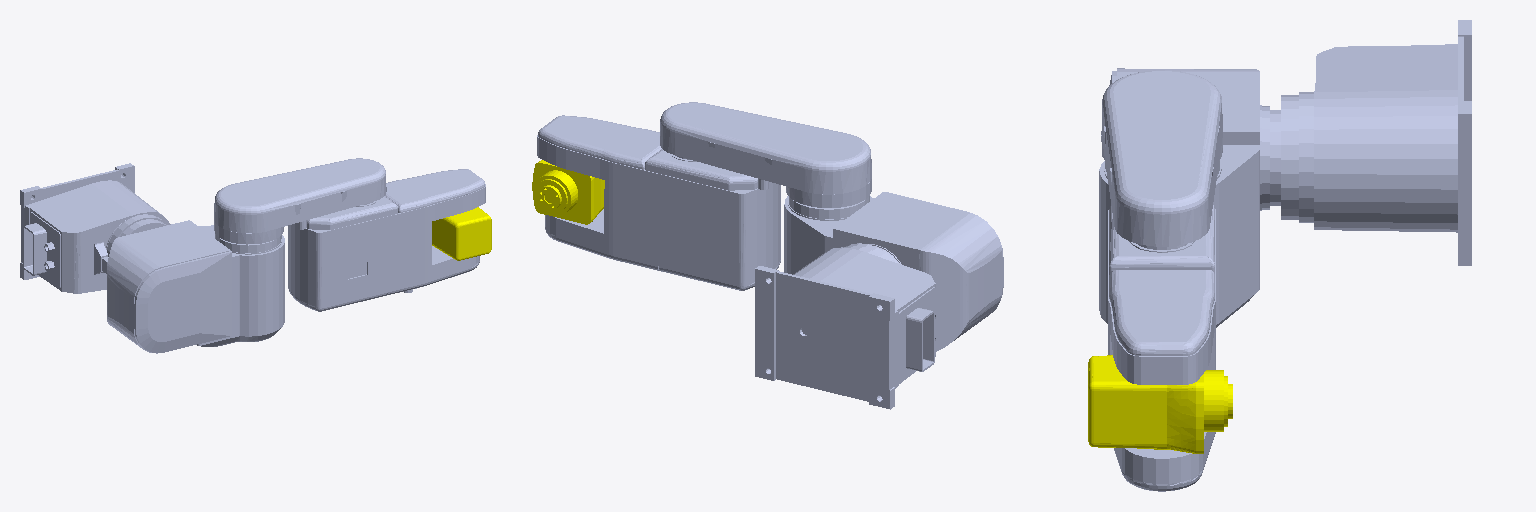
The robot description file, URDF, robot "Robot":
<?xml version="1.0" encoding="utf-8"?>
<!-- This URDF was automatically created by SolidWorks to URDF Exporter! Originally created by [author] ([email redacted]) 
     Commit Version: 1.5.1-0-g916b5db  Build Version: 1.5.7152.31018
     For more information, please see http://wiki.ros.org/sw_urdf_exporter -->
<robot
  name="Robot">
  <link
    name="base_link">
    <inertial>
      <origin
        xyz="-0.03833929027448 -3.59958205703425E-05 0.0994275237600867"
        rpy="0 0 0" />
      <mass
        value="6.61349938792739" />
      <inertia
        ixx="0.0334211501333898"
        ixy="1.81619664576464E-07"
        ixz="-0.00282491860182571"
        iyy="0.0514438808451977"
        iyz="-2.07335191994888E-05"
        izz="0.0411049283794167" />
    </inertial>
    <visual>
      <origin
        xyz="0 0 0"
        rpy="0 0 0" />
      <geometry>
        <mesh
          filename="package://Robot/meshes/base_link.STL" />
      </geometry>
      <material
        name="">
        <color
          rgba="0.792156862745098 0.819607843137255 0.933333333333333 1" />
      </material>
    </visual>
    <collision>
      <origin
        xyz="0 0 0"
        rpy="0 0 0" />
      <geometry>
        <mesh
          filename="package://Robot/meshes/base_link.STL" />
      </geometry>
    </collision>
  </link>
  <link
    name="Link_1">
    <inertial>
      <origin
        xyz="0.0443968711827815 0.114215613209391 0.0246606203922222"
        rpy="0 0 0" />
      <mass
        value="11.480826102636" />
      <inertia
        ixx="0.0698498374042655"
        ixy="-0.00747408433668599"
        ixz="0.00038316797046875"
        iyy="0.147470785850276"
        iyz="0.000529201969864123"
        izz="0.130855843893839" />
    </inertial>
    <visual>
      <origin
        xyz="0 0 0"
        rpy="0 0 0" />
      <geometry>
        <mesh
          filename="package://Robot/meshes/Link_1.STL" />
      </geometry>
      <material
        name="">
        <color
          rgba="0.792156862745098 0.819607843137255 0.933333333333333 1" />
      </material>
    </visual>
    <collision>
      <origin
        xyz="0 0 0"
        rpy="0 0 0" />
      <geometry>
        <mesh
          filename="package://Robot/meshes/Link_1.STL" />
      </geometry>
    </collision>
  </link>
  <joint
    name="joint_1"
    type="continuous">
    <origin
      xyz="0 -0.21599398 0"
      rpy="3.14159265358979 0 0" />
    <parent
      link="base_link" />
    <child
      link="Link_1" />
    <axis
      xyz="0 1 0" />
  </joint>
  <link
    name="Link_2">
    <inertial>
      <origin
        xyz="-0.000424905149729982 0.122238930468024 -0.0545876838239367"
        rpy="0 0 0" />
      <mass
        value="1.59614240021541" />
      <inertia
        ixx="0.0191906908591395"
        ixy="-4.07549329449473E-05"
        ixz="6.03114729725788E-06"
        iyy="0.00247948219624241"
        iyz="-0.000358450957221003"
        izz="0.0206716445774797" />
    </inertial>
    <visual>
      <origin
        xyz="0 0 0"
        rpy="0 0 0" />
      <geometry>
        <mesh
          filename="package://Robot/meshes/Link_2.STL" />
      </geometry>
      <material
        name="">
        <color
          rgba="0.792156862745098 0.819607843137255 0.933333333333333 1" />
      </material>
    </visual>
    <collision>
      <origin
        xyz="0 0 0"
        rpy="0 0 0" />
      <geometry>
        <mesh
          filename="package://Robot/meshes/Link_2.STL" />
      </geometry>
    </collision>
  </link>
  <joint
    name="joint_2"
    type="continuous">
    <origin
      xyz="0.15113 0.134620000000033 -0.0739774999997785"
      rpy="0 0 -1.5707963267949" />
    <parent
      link="Link_1" />
    <child
      link="Link_2" />
    <axis
      xyz="0 0 1" />
  </joint>
  <link
    name="Link_3">
    <inertial>
      <origin
        xyz="0.0306015611393443 -1.38986990833034E-05 0.0869620810233305"
        rpy="0 0 0" />
      <mass
        value="7.57314920700952" />
      <inertia
        ixx="0.0345355100189945"
        ixy="-2.13368907186288E-05"
        ixz="0.000295327132632406"
        iyy="0.106628525631527"
        iyz="-7.71589561195419E-06"
        izz="0.0896284271785831" />
    </inertial>
    <visual>
      <origin
        xyz="0 0 0"
        rpy="0 0 0" />
      <geometry>
        <mesh
          filename="package://Robot/meshes/Link_3.STL" />
      </geometry>
      <material
        name="">
        <color
          rgba="0.792156862745098 0.819607843137255 0.933333333333333 1" />
      </material>
    </visual>
    <collision>
      <origin
        xyz="0 0 0"
        rpy="0 0 0" />
      <geometry>
        <mesh
          filename="package://Robot/meshes/Link_3.STL" />
      </geometry>
    </collision>
  </link>
  <joint
    name="joint_3"
    type="continuous">
    <origin
      xyz="0 0.249999997700549 0"
      rpy="0 0 1.5707963267949" />
    <parent
      link="Link_2" />
    <child
      link="Link_3" />
    <axis
      xyz="0 0 1" />
  </joint>
  <link
    name="Link_4">
    <inertial>
      <origin
        xyz="-0.0161410509686082 -0.00728366402373137 0.0464257229030794"
        rpy="0 0 0" />
      <mass
        value="2.62434730485973" />
      <inertia
        ixx="0.00345648265125595"
        ixy="1.35082748314769E-05"
        ixz="-2.61615736224225E-05"
        iyy="0.00519174994334229"
        iyz="-4.97737960353961E-06"
        izz="0.00537240520771855" />
    </inertial>
    <visual>
      <origin
        xyz="0 0 0"
        rpy="0 0 0" />
      <geometry>
        <mesh
          filename="package://Robot/meshes/Link_4.STL" />
      </geometry>
      <material
        name="">
        <color
          rgba="1 1 0 1" />
      </material>
    </visual>
    <collision>
      <origin
        xyz="0 0 0"
        rpy="0 0 0" />
      <geometry>
        <mesh
          filename="package://Robot/meshes/Link_4.STL" />
      </geometry>
    </collision>
  </link>
  <joint
    name="joint_4"
    type="continuous">
    <origin
      xyz="0.22 0 0.0461024999998818"
      rpy="0 0 -1.5707963267949" />
    <parent
      link="Link_3" />
    <child
      link="Link_4" />
    <axis
      xyz="0 0 1" />
  </joint>
  <link
    name="Link_5">
    <inertial>
      <origin
        xyz="0.0188069343223941 -1.61969243647198E-05 2.29020941100444E-10"
        rpy="0 0 0" />
      <mass
        value="0.388103045994882" />
      <inertia
        ixx="0.000225753127301616"
        ixy="1.28577560354729E-07"
        ixz="1.19503105467116E-12"
        iyy="0.000160648486611405"
        iyz="2.16947166085495E-13"
        izz="0.000160549379104309" />
    </inertial>
    <visual>
      <origin
        xyz="0 0 0"
        rpy="0 0 0" />
      <geometry>
        <mesh
          filename="package://Robot/meshes/Link_5.STL" />
      </geometry>
      <material
        name="">
        <color
          rgba="1 1 0 1" />
      </material>
    </visual>
    <collision>
      <origin
        xyz="0 0 0"
        rpy="0 0 0" />
      <geometry>
        <mesh
          filename="package://Robot/meshes/Link_5.STL" />
      </geometry>
    </collision>
  </link>
  <joint
    name="joint_5"
    type="continuous">
    <origin
      xyz="0.0370438321464943 0 0.0425450000000421"
      rpy="-0.340142821896588 0 0" />
    <parent
      link="Link_4" />
    <child
      link="Link_5" />
    <axis
      xyz="1 0 0" />
  </joint>
</robot>

--- Facts derived from the render (not from the file) ---
3 views of the same robot in one strip: view 1: azimuth 30°, elevation 25°; view 2: azimuth 150°, elevation 25°; view 3: azimuth 270°, elevation 25° (orthographic).
Model Robot with 6 links and 5 joints (5 continuous), rooted at base_link, posed all joints at 0.
Visible links, largest first — view 1: Link_1, Link_3, base_link, Link_2, Link_4; view 2: Link_3, base_link, Link_1, Link_2, Link_4, Link_5; view 3: base_link, Link_2, Link_3, Link_1, Link_4, Link_5.
Link boxes in pixels (x1,y1,x2,y2): Link_1: (107,220,284,353); Link_3: (288,169,485,311); base_link: (20,163,170,293); Link_2: (214,158,386,244); Link_4: (432,207,491,260); Link_3: (537,115,780,290); base_link: (755,243,936,409); Link_1: (784,192,1003,351); Link_2: (660,102,871,207); Link_4: (532,160,604,224); Link_5: (533,170,577,215); base_link: (1281,20,1471,265); Link_2: (1101,70,1222,249); Link_3: (1108,205,1215,491); Link_1: (1099,68,1280,327); Link_4: (1088,355,1203,453); Link_5: (1204,370,1232,431).
Size in the robot's own frame: 0.8639 by 0.4342 by 0.3 metres.
Meshes: 6 distinct files referenced, 6 mesh visuals loaded (6 binary STL).